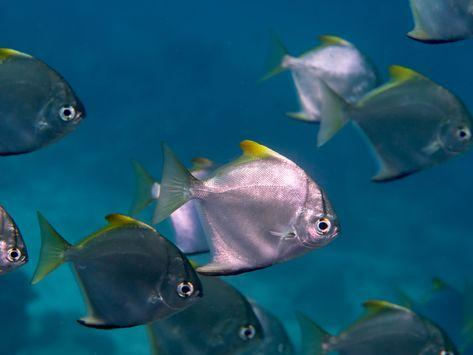fish: (156, 138, 343, 276), (31, 208, 202, 330), (315, 64, 473, 185), (260, 30, 385, 124), (0, 47, 89, 158), (146, 276, 265, 354), (294, 299, 455, 355), (407, 0, 473, 45), (0, 206, 30, 277)
